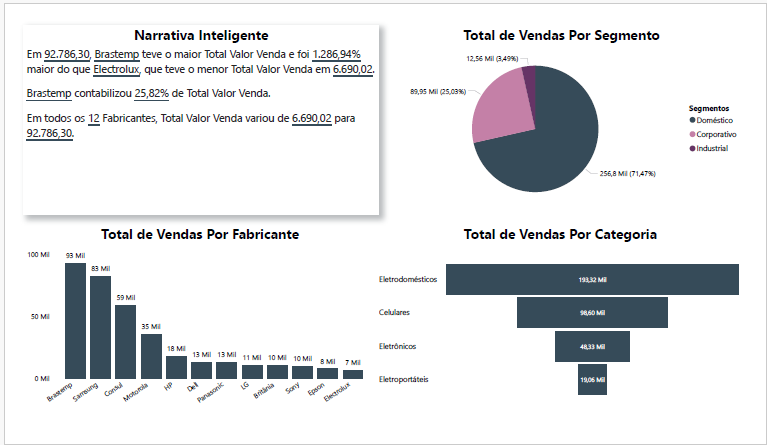

This screenshot's page, from the dashboard's own definition file:
{"tool":"powerbi","page":{"name":"Relatório Narrativa Inteligente","canvas":[1280,720],"ordinal":1},"visuals":[{"type":"pieChart","title":"Total de Vendas Por Segmento","fields":{"Category":["DadosComerciais.Segmento"],"Y":["Sum(DadosComerciais.ValorVenda)"]},"box":[628.3,13.3,638.3,330],"z":0},{"type":"clusteredColumnChart","title":"Total de Vendas Por Fabricante","fields":{"Category":["DadosComerciais.Fabricante"],"Y":["Sum(DadosComerciais.ValorVenda)"]},"box":[9.3,360,615.1,334.8],"z":1000},{"type":"funnel","title":"Total de Vendas Por Categoria","fields":{"Category":["DadosComerciais.Categoria"],"Y":["Sum(DadosComerciais.ValorVenda)"]},"box":[624.4,360,643,334.8],"z":2000},{"type":"textbox","title":"Narrativa Inteligente","box":[9.3,13.3,619,329.4],"z":2001}]}

Visuals, with their boxes on the page's 1280x720 design canvas (x1, y1, x2, y2). These are canvas units, not pixel positions in the 767x445 screenshot, which may show the page scaled, cropped or inside an application window:
"Total de Vendas Por Segmento" pieChart: locate(628, 13, 1267, 343)
"Total de Vendas Por Fabricante" clusteredColumnChart: locate(9, 360, 624, 695)
"Total de Vendas Por Categoria" funnel: locate(624, 360, 1267, 695)
"Narrativa Inteligente" textbox: locate(9, 13, 628, 343)
